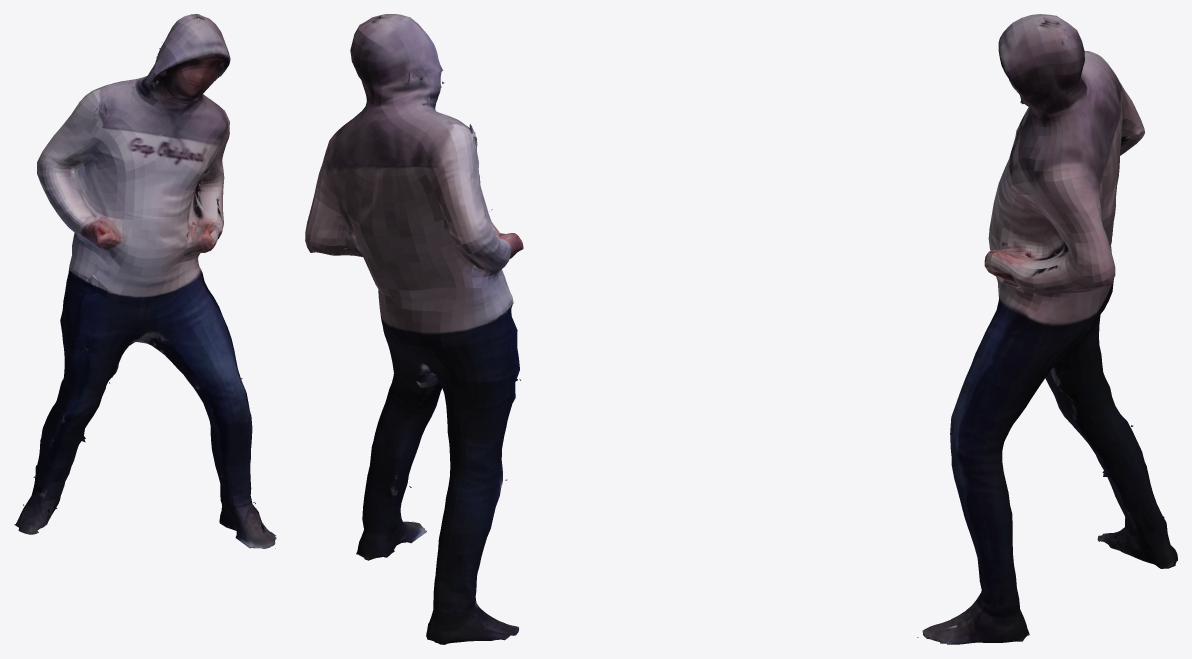
The model's file is AB-dodgeLeft_0000035.obj.
The picture shows the model from 3 angles, left to right: view 1: azimuth 30°, elevation 25°; view 2: azimuth 150°, elevation 25°; view 3: azimuth 270°, elevation 25°; orthographic projection. The views are drawn at different scales.
Parts seen in each view (by area): view 1: Retopo_frame_0000035_mesh; view 2: Retopo_frame_0000035_mesh; view 3: Retopo_frame_0000035_mesh.
Boxes of the visible parts, x1,y1,x2,y2 form: Retopo_frame_0000035_mesh: (14,14,276,548); Retopo_frame_0000035_mesh: (305,14,523,644); Retopo_frame_0000035_mesh: (917,14,1177,644).
Size of the model in its own units: 0.7944 by 1.7 by 1.15.
Materials: 1 (1 with a texture image).
